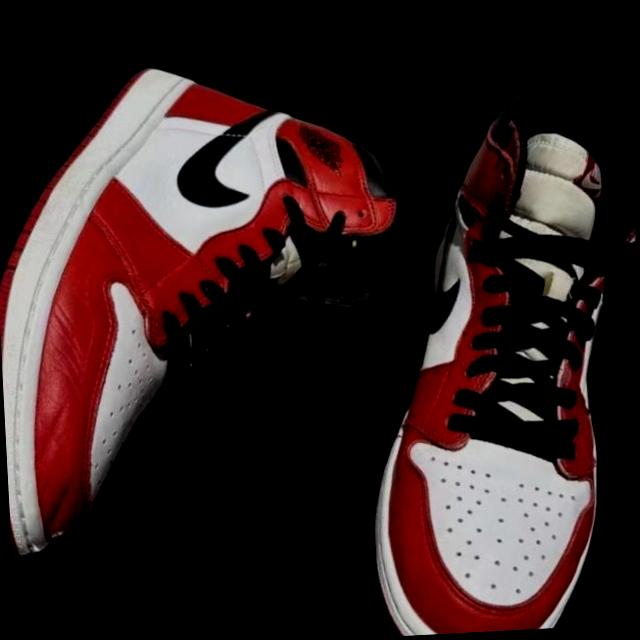nike_original_jordan: (0, 14, 454, 640), (301, 35, 640, 639)
